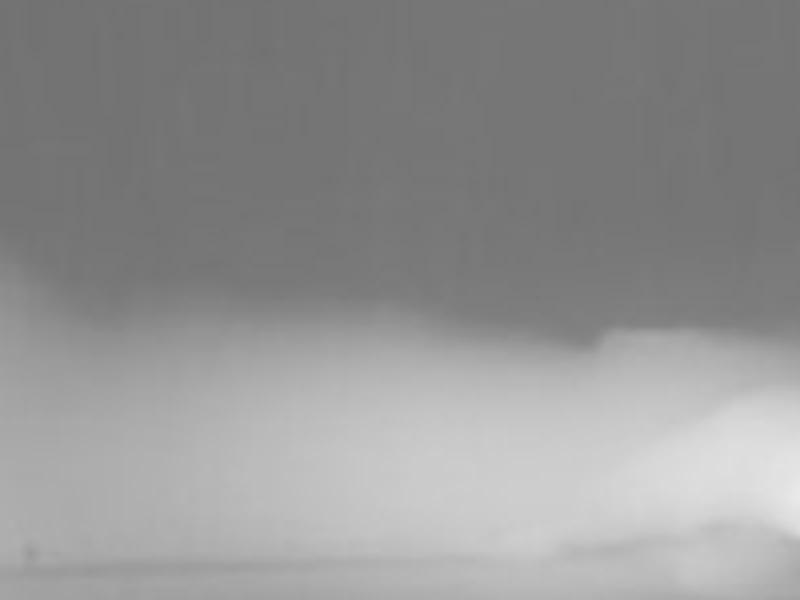defect: (24, 542, 42, 565)
